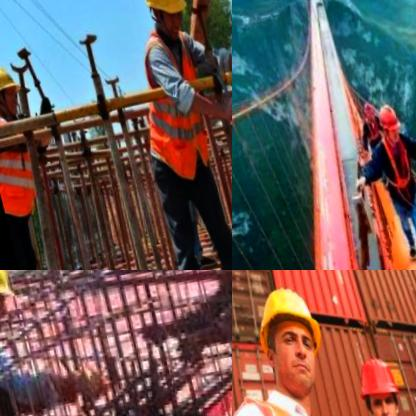helmet: (238, 270, 334, 412), (342, 347, 414, 416), (134, 0, 192, 47), (368, 103, 406, 156), (0, 58, 23, 122)
